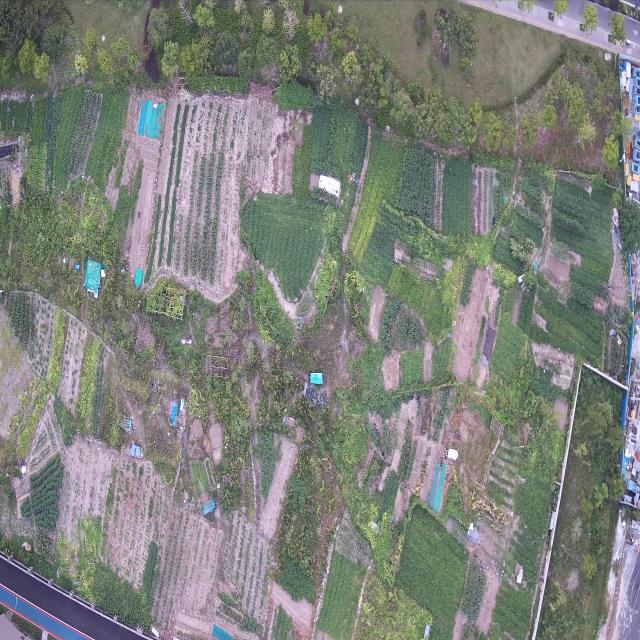UAV: (298, 376, 313, 400)
